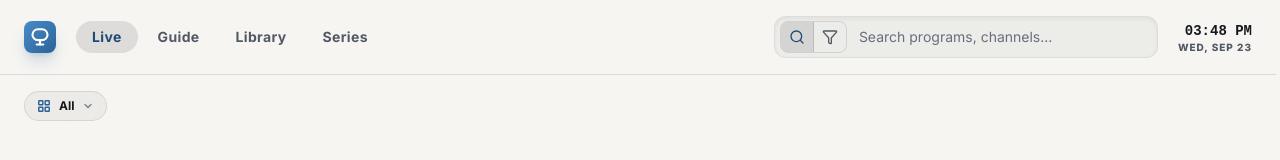
Test: emptying the search box › offers a button to clear it, and keeps the caret in the field
Type "dave" into the field labelled "Search programs, channels" at (966,37), box x1=774 y1=16 x2=1158 y2=58
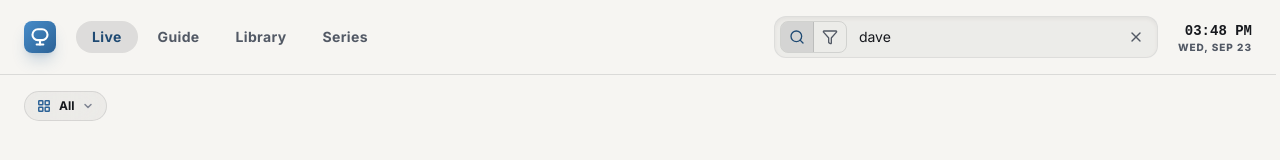
Click the button named "clear search" at (1136,37), box x1=1122 y1=23 x2=1150 y2=51
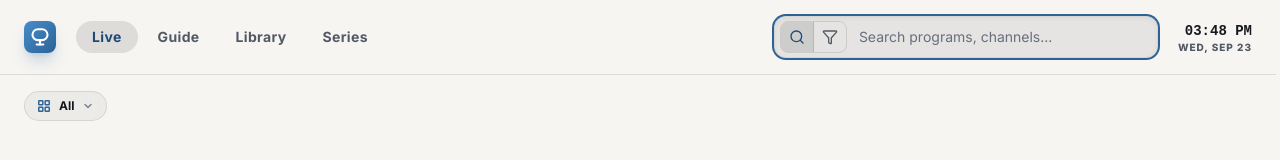
Expected: the field labelled "Search programs, channels" is empty, x1=774 y1=16 x2=1158 y2=58
